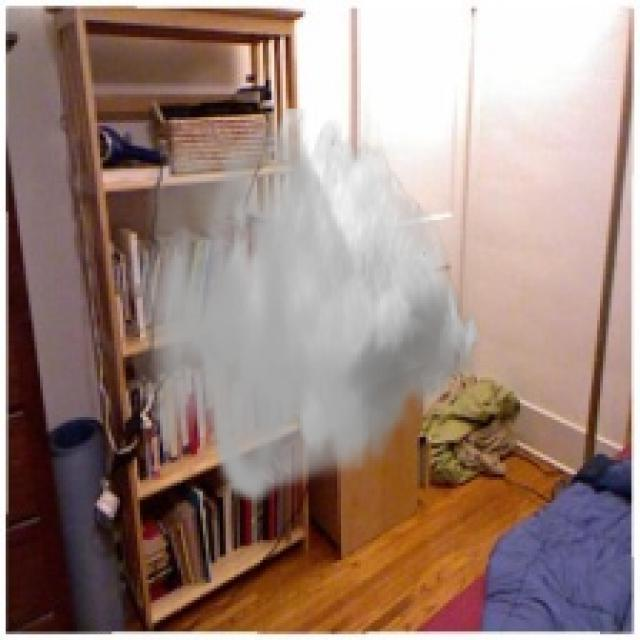Smoke: (128, 109, 483, 508)
